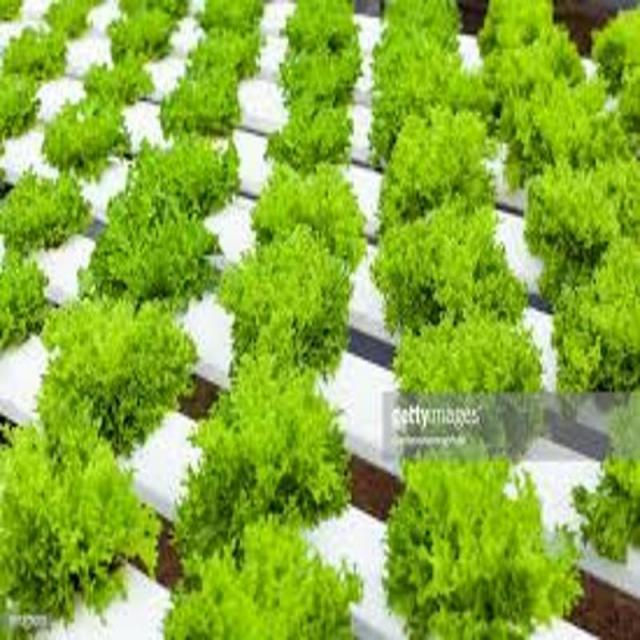Lettuce: (388, 451, 578, 640), (180, 350, 352, 542), (0, 420, 156, 625), (40, 287, 198, 460), (390, 302, 545, 473), (163, 515, 367, 640), (213, 227, 357, 380), (373, 200, 525, 340), (82, 185, 222, 313), (245, 156, 370, 276), (523, 165, 640, 293), (546, 254, 640, 413), (375, 32, 492, 146), (505, 67, 623, 175), (382, 103, 495, 215), (573, 421, 640, 578), (0, 165, 100, 258), (127, 136, 245, 212), (38, 102, 132, 182), (262, 97, 358, 165), (0, 241, 58, 353), (156, 70, 246, 137), (276, 40, 366, 105), (591, 6, 640, 96), (0, 26, 71, 86), (80, 55, 157, 110), (190, 27, 270, 78), (383, 0, 465, 40), (283, 0, 359, 43), (108, 14, 180, 58), (0, 71, 38, 140), (190, 0, 265, 33), (45, 0, 100, 35), (120, 0, 190, 23)
